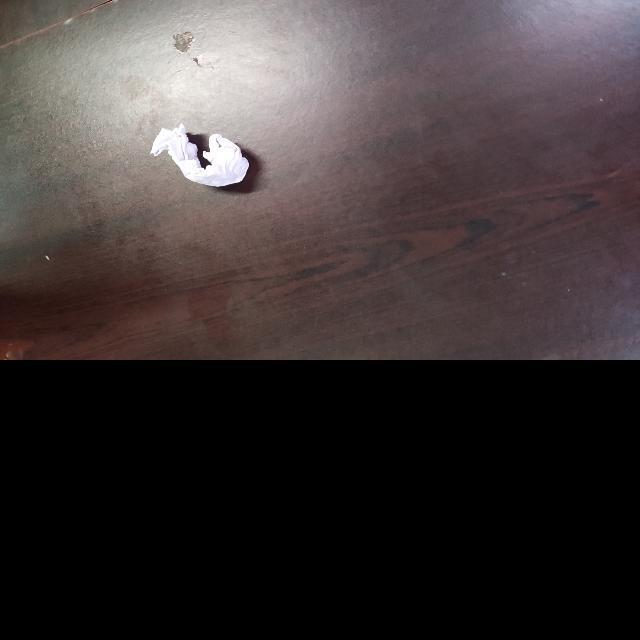kitchen paper: (150, 119, 256, 191)
